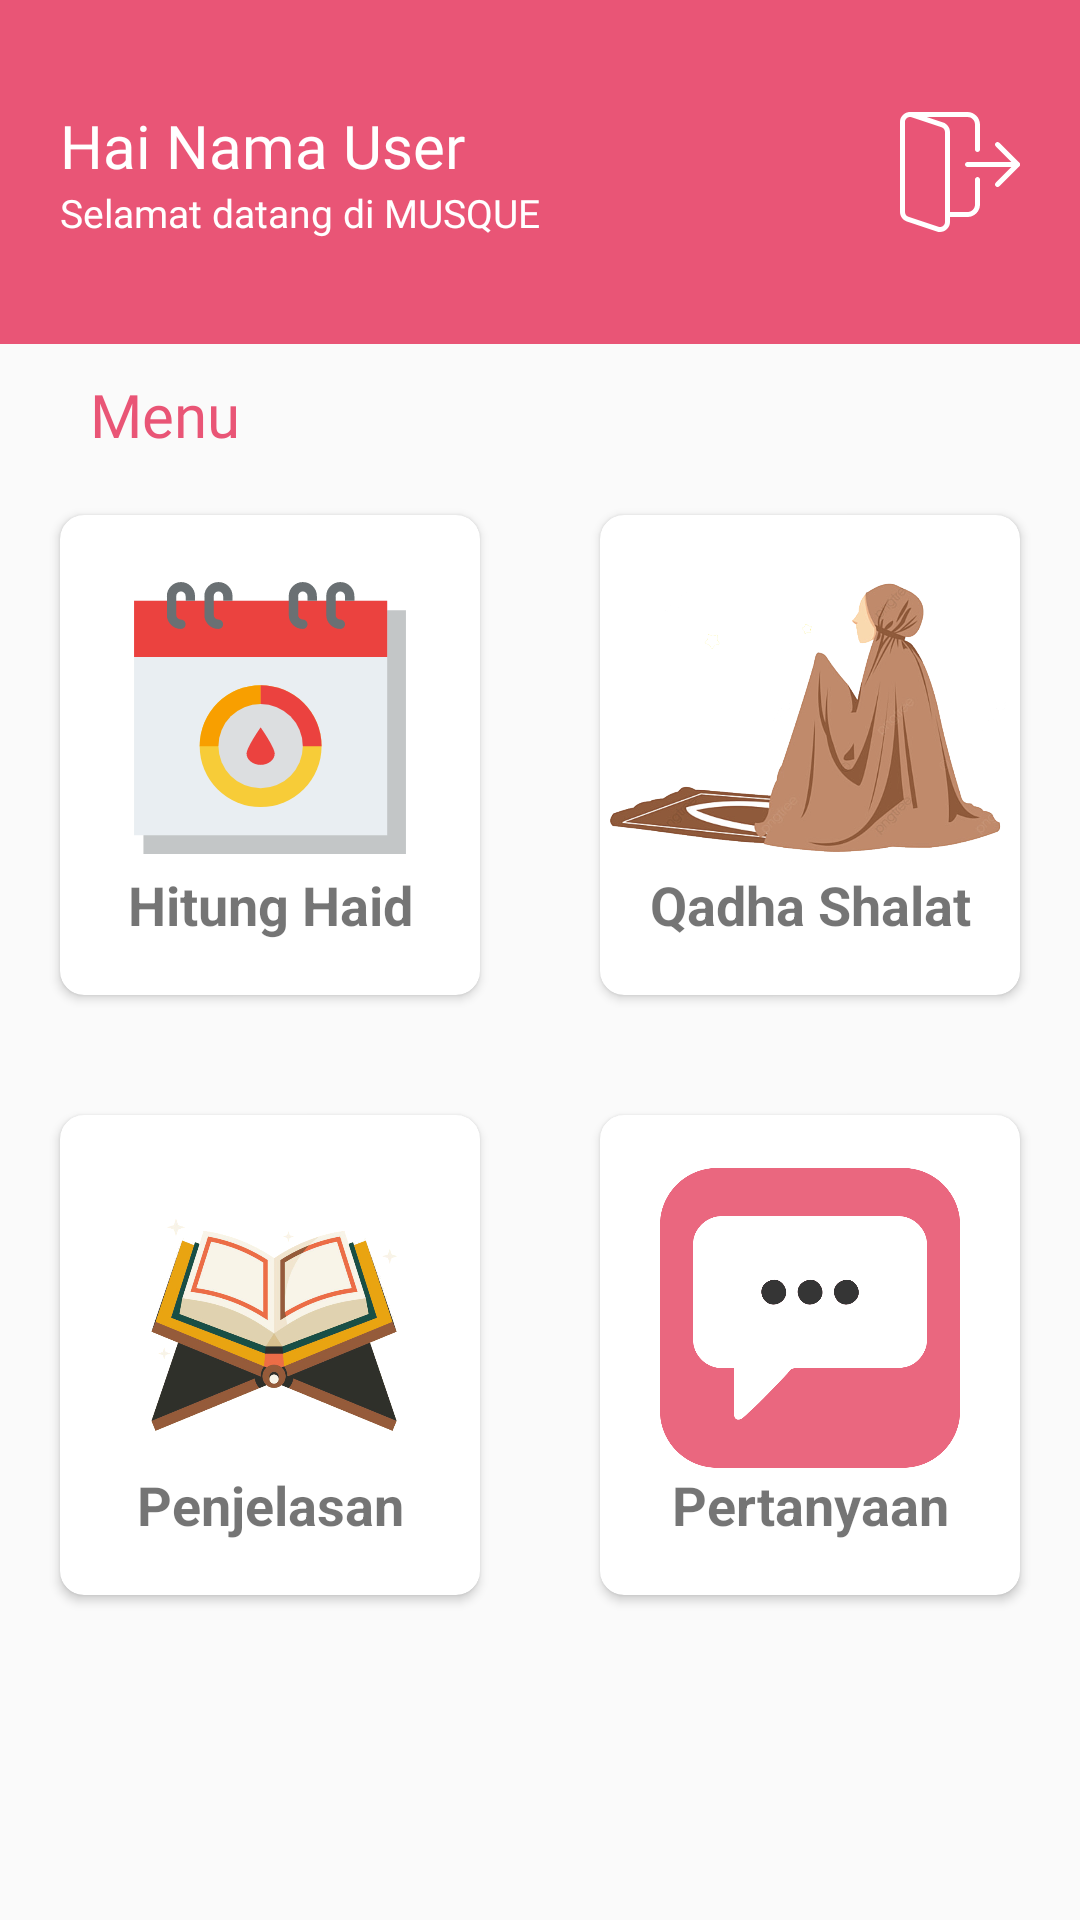

Where to tap for icons on this 1080px×1920px app screen, as [x,y]:
calendar: [270,718]
kitab: [274,1327]
log out: [960,172]
pesan: [810,1318]
